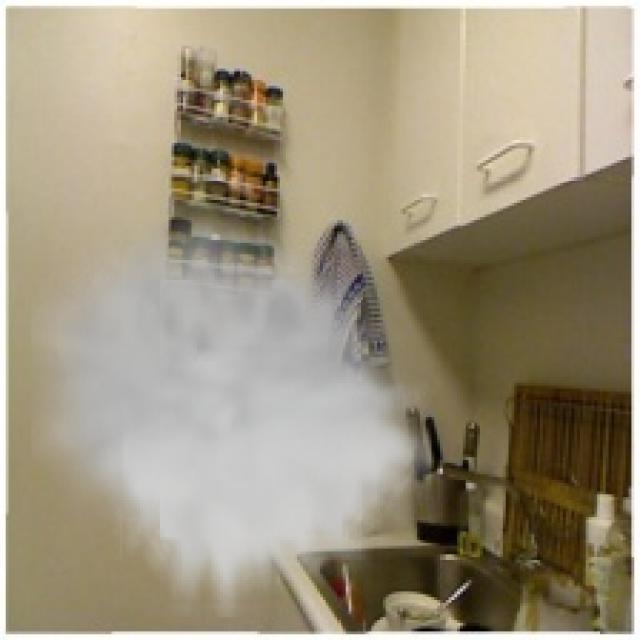smoke: (31, 203, 432, 617)
